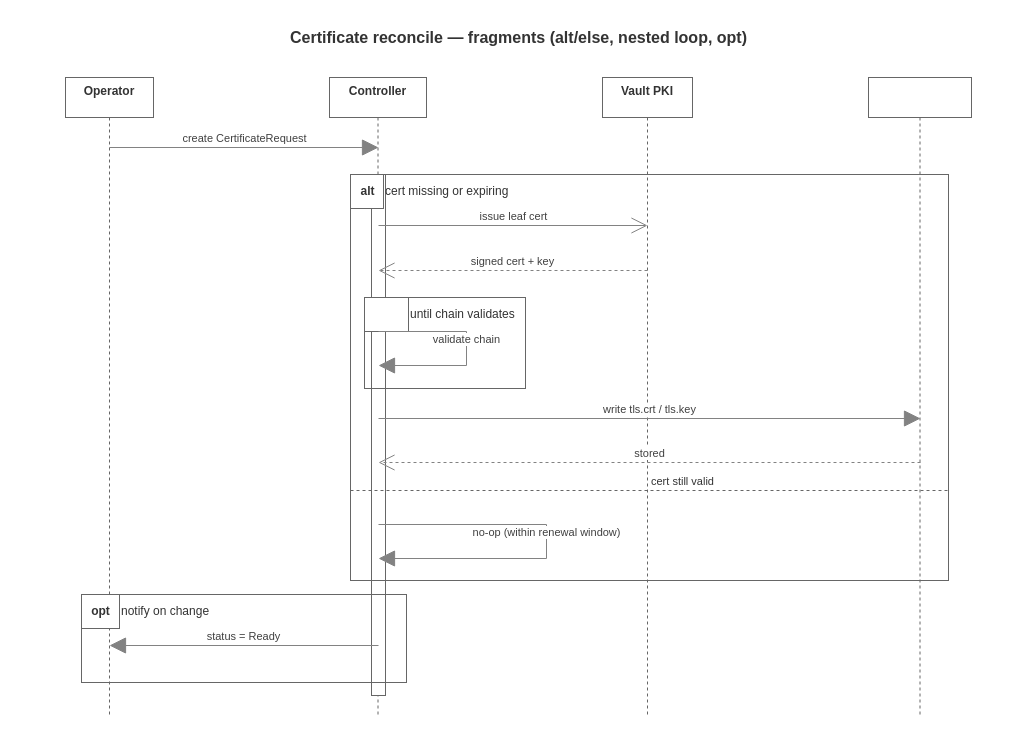
Image size: 1036x733. Some labels were removed from this diagram. The centre of each missing label's shape, as x and y in pixels:
K8s Secret: (x=920, y=396)
loop: (x=386, y=314)
